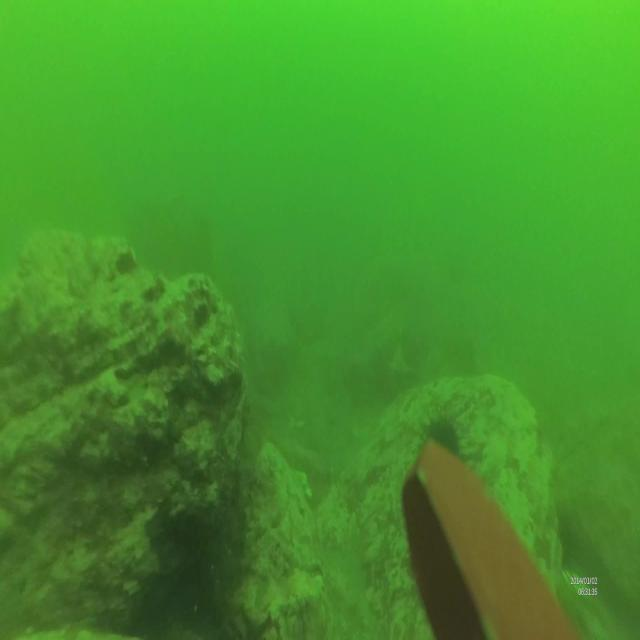echinus: (416, 413, 462, 464)
